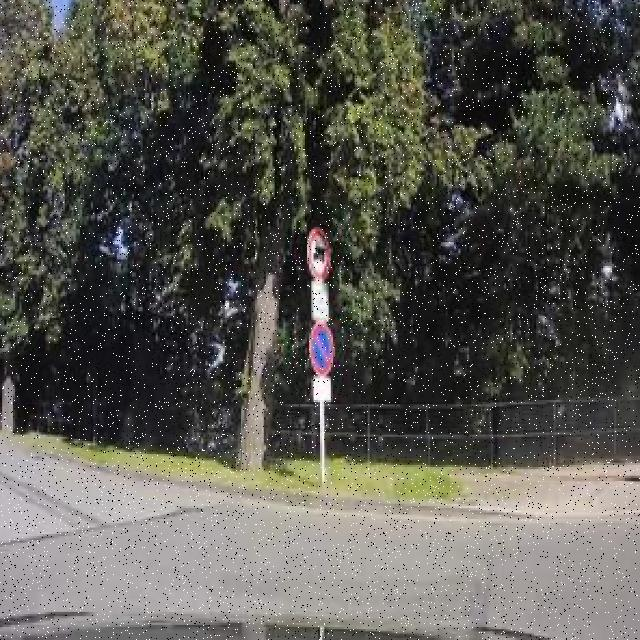clear-road: (0, 443, 640, 640)
